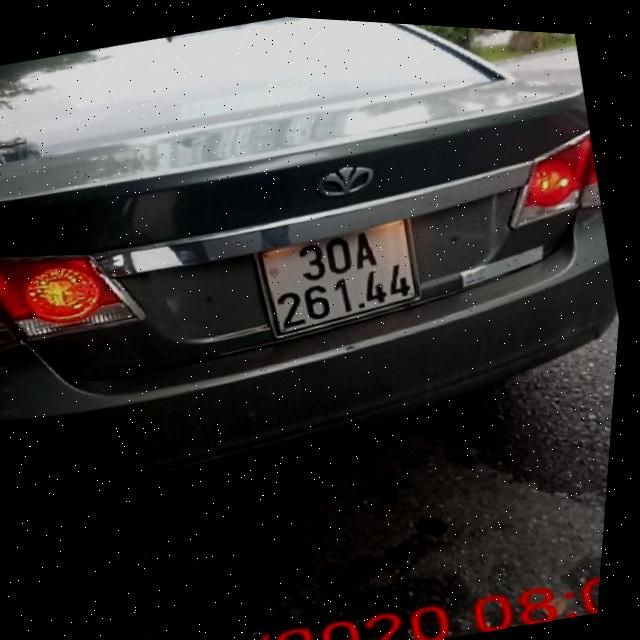car: (0, 0, 640, 591)
plate: (236, 194, 444, 355)
